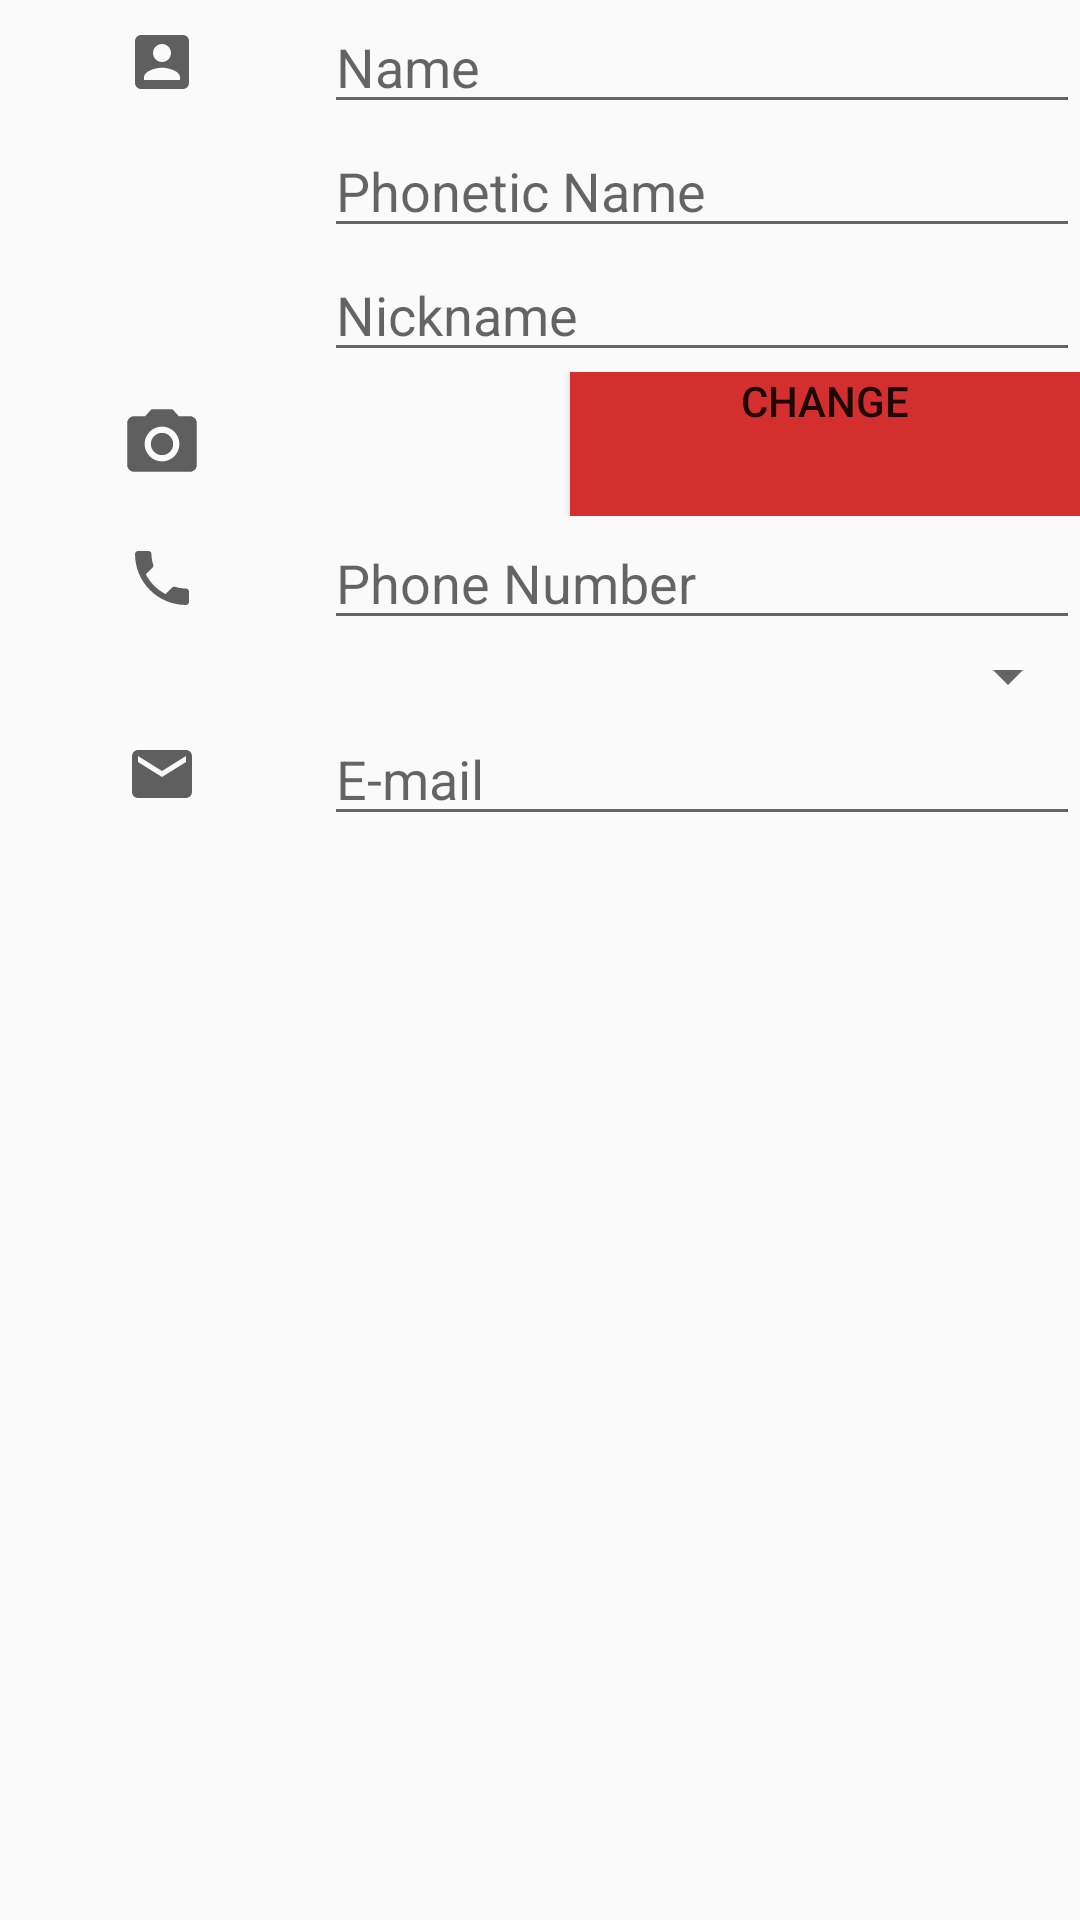

Named icons in this screenshot (1080px×1920px) and their bounding boxes, (x1, y1, x2, y2):
camera: (127, 409, 197, 472)
person: (135, 35, 189, 89)
